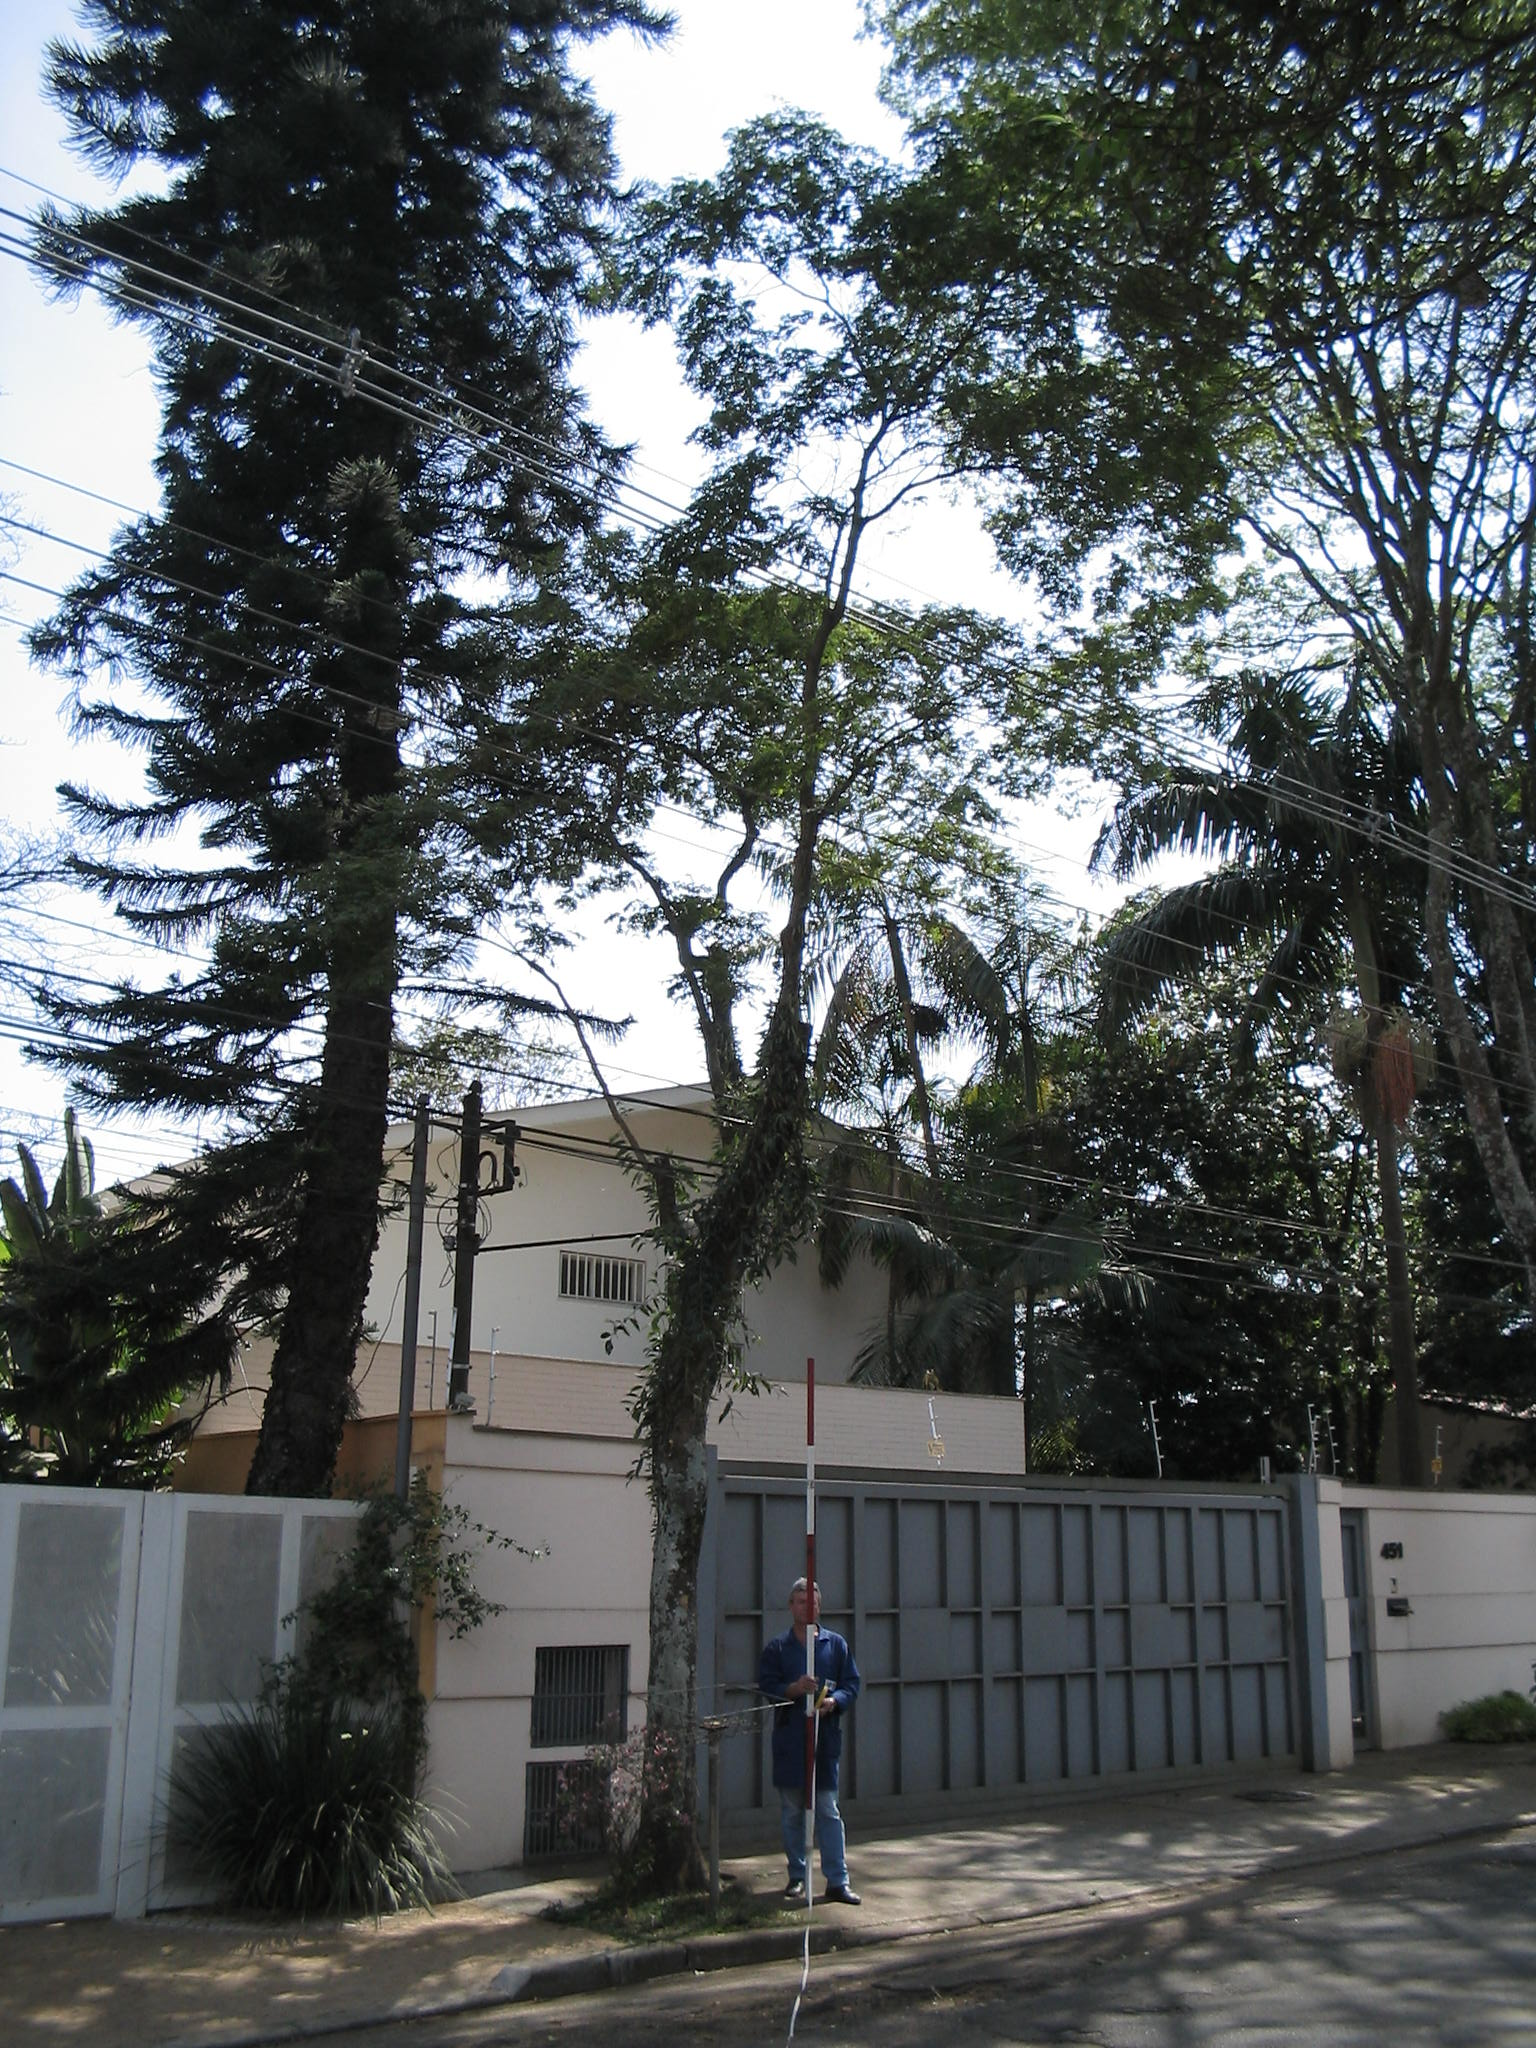crown: (323, 95, 1363, 958), (23, 3, 666, 1116), (866, 8, 1525, 655)
stem: (607, 1124, 783, 1900), (237, 1121, 408, 1490)
stick: (779, 1363, 836, 1904)
tree: (311, 95, 1371, 1903), (862, 8, 1534, 1495), (15, 3, 670, 1495)
